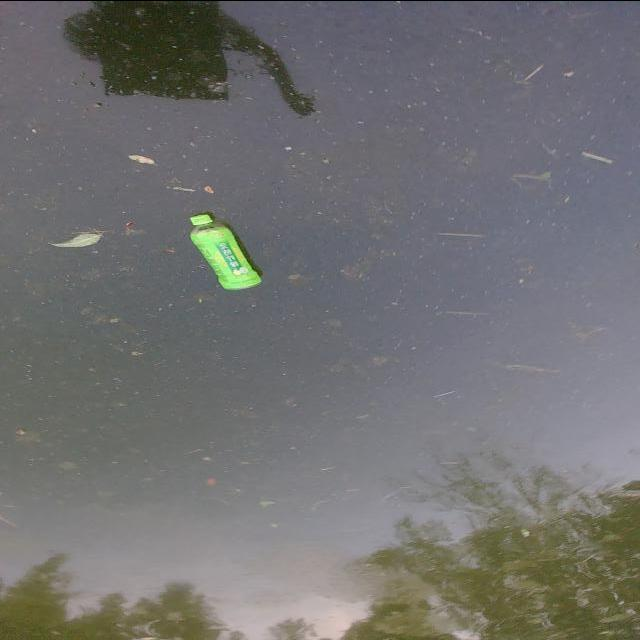Bottle: (182, 200, 271, 296)
